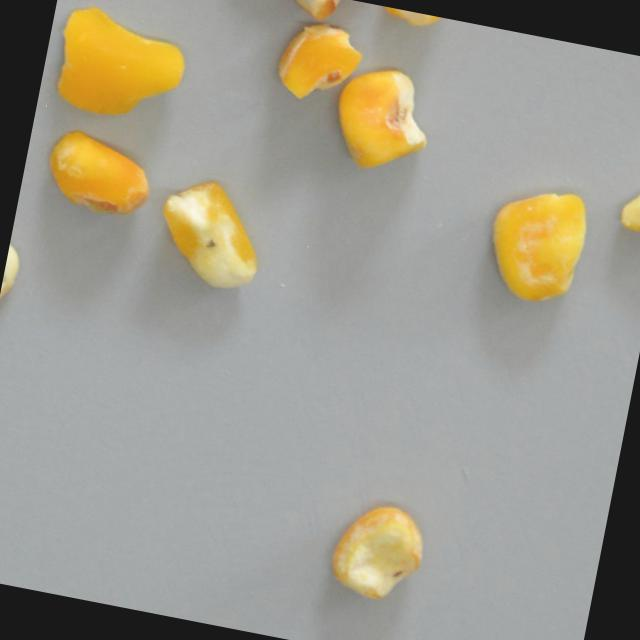dañado: (322, 63, 439, 183), (40, 127, 160, 222), (271, 20, 368, 110), (273, 0, 378, 37)
estandar: (40, 0, 194, 140), (377, 6, 451, 34)
pelicula: (473, 178, 597, 311)
punto_negro: (149, 174, 276, 298), (324, 495, 431, 608), (0, 232, 37, 333), (615, 138, 640, 239)
